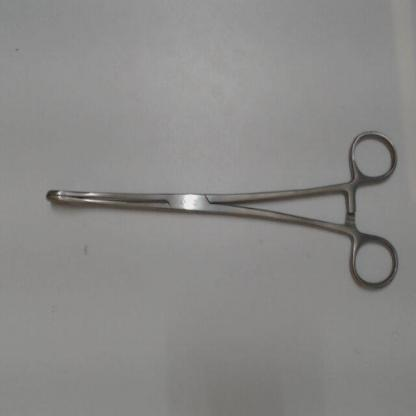Sponge Forceps: (36, 124, 405, 297)
